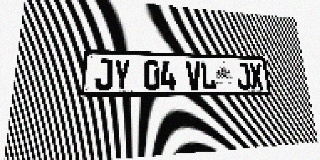0: (144, 60, 160, 90)
4: (160, 60, 176, 90)
J: (94, 58, 113, 90), (236, 63, 251, 90)
L: (200, 62, 216, 90)
V: (186, 61, 202, 90)
X: (248, 63, 264, 89)
Y: (113, 59, 130, 90)
